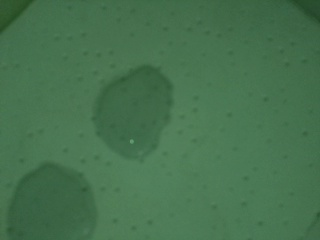Water_detected: (96, 73, 166, 157), (24, 176, 84, 239)
